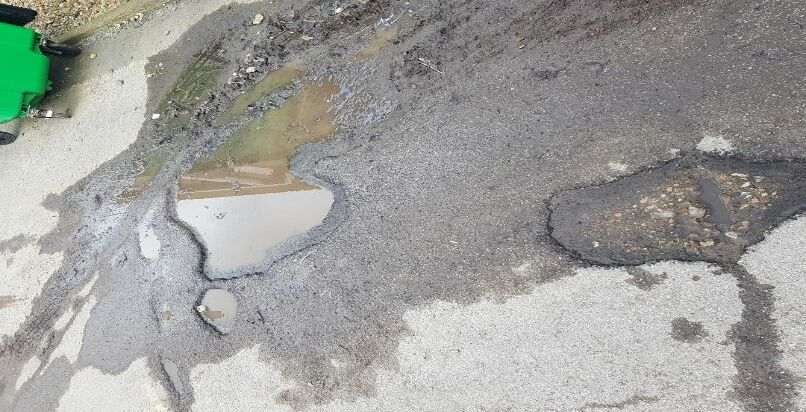pothole: (159, 51, 372, 286), (537, 146, 806, 272), (186, 288, 248, 338)
